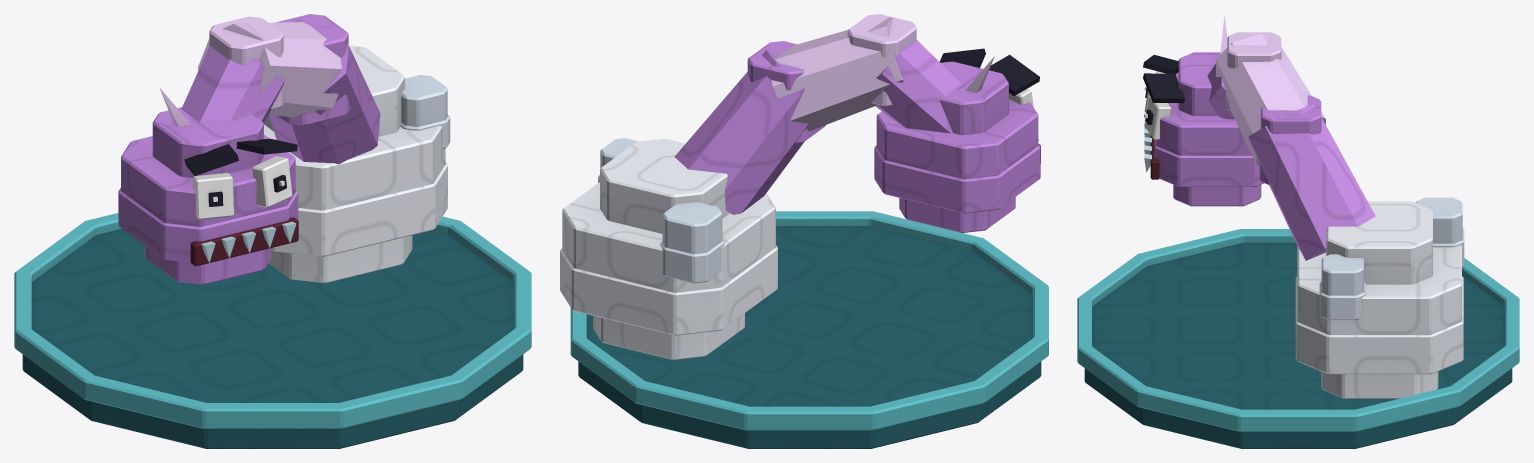
File: SnowWorm.fbx
3 renders of one model, left to right at view 1: azimuth 30°, elevation 25°; view 2: azimuth 150°, elevation 25°; view 3: azimuth 270°, elevation 25°, orthographic. The views are drawn at different scales.
Parts seen in each view (by area): view 1: Art_SnowWorm_Stand, Art_SnowWorm_Head, Art_SnowWorm_Ball, Art_SnowWorm_Mid; view 2: Art_SnowWorm_Stand, Art_SnowWorm_Ball, Art_SnowWorm_Mid, Art_SnowWorm_Head; view 3: Art_SnowWorm_Stand, Art_SnowWorm_Ball, Art_SnowWorm_Mid, Art_SnowWorm_Head.
Part boxes in pixels (box(x1,y1,x2,y2)): Art_SnowWorm_Stand: box(14, 213, 531, 448); Art_SnowWorm_Head: box(118, 66, 298, 284); Art_SnowWorm_Ball: box(263, 45, 450, 283); Art_SnowWorm_Mid: box(181, 14, 380, 164); Art_SnowWorm_Stand: box(570, 211, 1048, 448); Art_SnowWorm_Ball: box(560, 138, 777, 359); Art_SnowWorm_Mid: box(674, 14, 961, 214); Art_SnowWorm_Head: box(874, 48, 1040, 232); Art_SnowWorm_Stand: box(1077, 229, 1519, 448); Art_SnowWorm_Ball: box(1295, 197, 1464, 398); Art_SnowWorm_Mid: box(1207, 32, 1375, 260); Art_SnowWorm_Head: box(1143, 15, 1263, 206).
Bounding box in the file's own units: 2.99 × 2.24 × 2.99.
